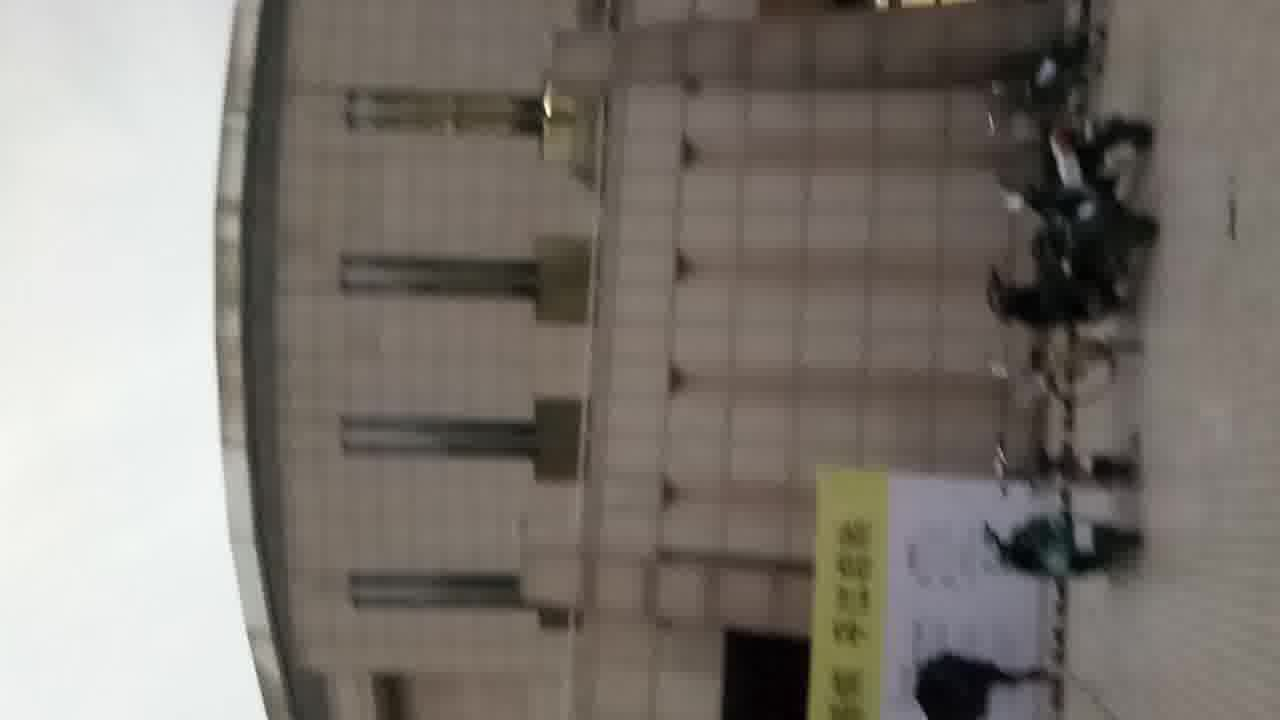zhongtiww: (199, 8, 1060, 720)
